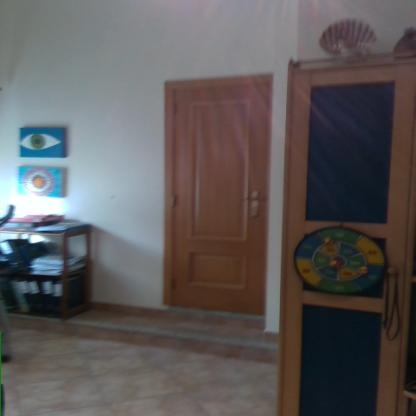closed: (157, 61, 280, 330)
